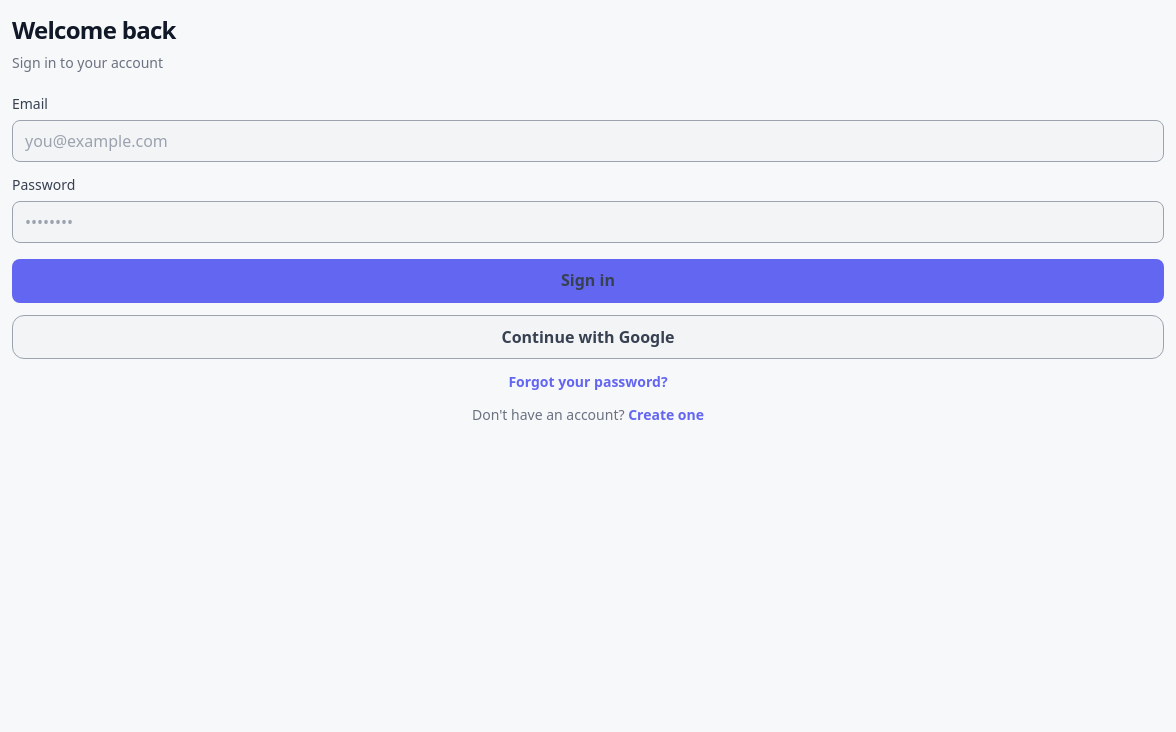
authentication views › focuses and describes the first missing login field
Click the button "Sign in": (588, 281) 12,259 -> 1164,303
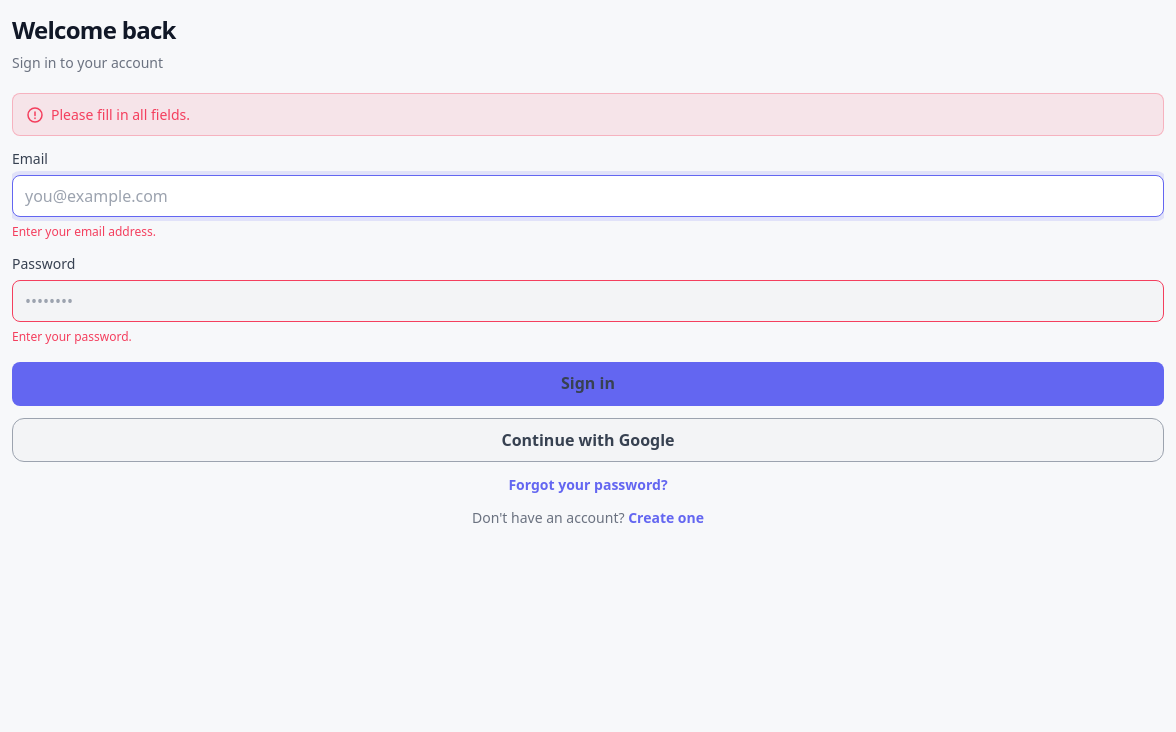
expect the text "Enter your email address." is shown: met, box 12,223 -> 156,240
